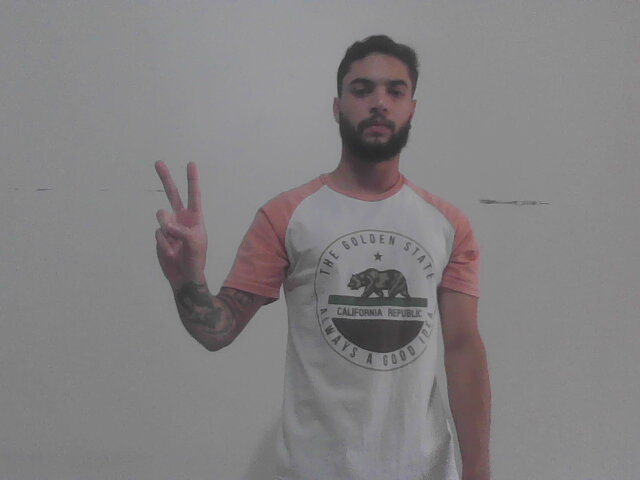v: (148, 155, 214, 286)
